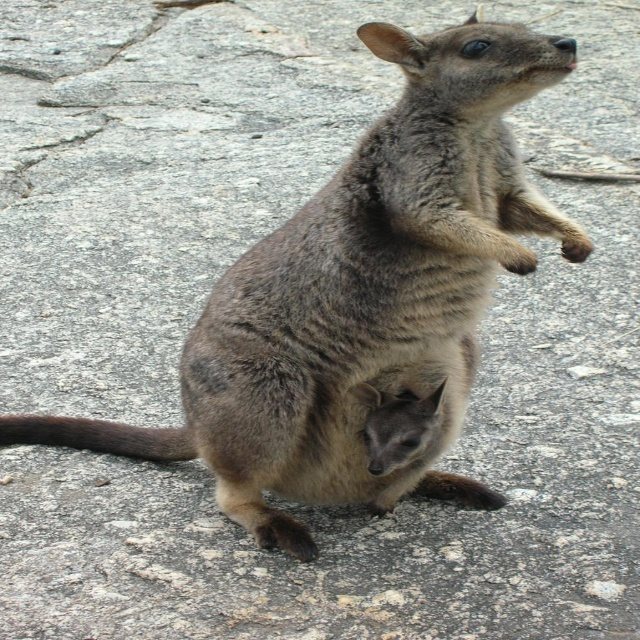Kangaroo: (0, 3, 596, 557)
